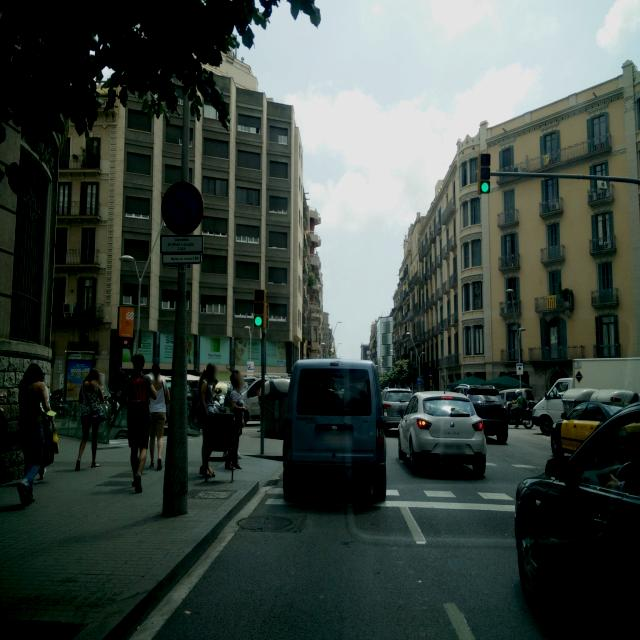car: (514, 391, 640, 640), (282, 357, 387, 501), (397, 390, 488, 478), (550, 398, 633, 460), (240, 374, 290, 424), (465, 389, 509, 444), (381, 386, 414, 436), (506, 398, 536, 428)
